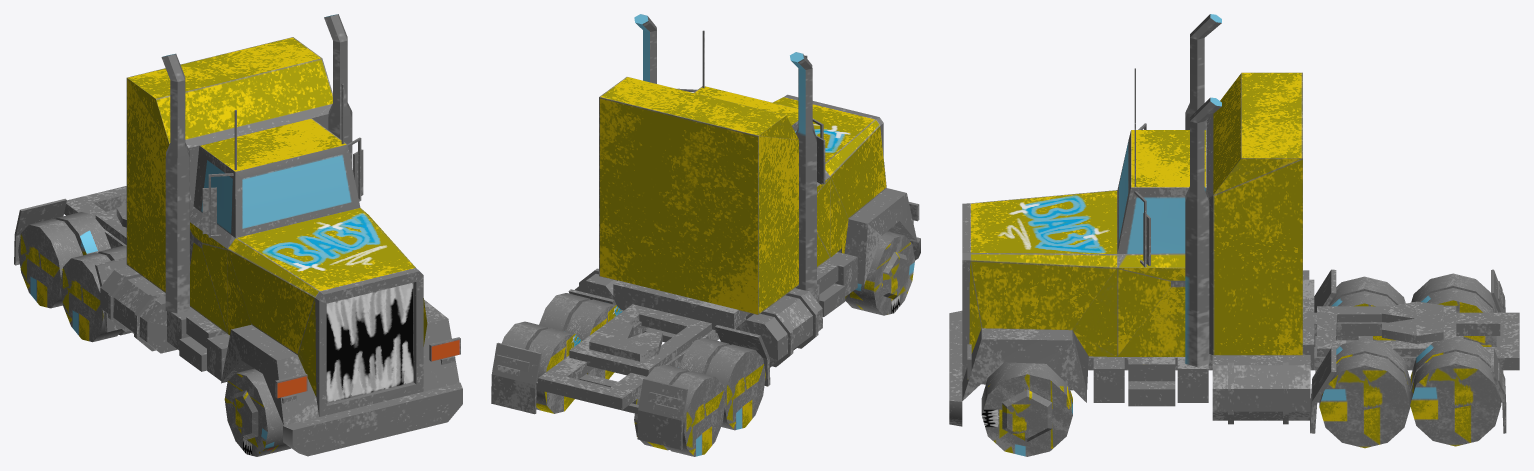
The model's file is truck_v02.fbx.
3 renders of one model, left to right at view 1: azimuth 30°, elevation 25°; view 2: azimuth 150°, elevation 25°; view 3: azimuth 270°, elevation 25°, orthographic. The views are drawn at different scales.
Visible parts, largest first — view 1: polySurface2, pasted__polySurface1, pasted__TireBRY, pasted__TireFR, pasted__TireBRX, polySurface1; view 2: polySurface2, pasted__TireBRX, pasted__polySurface1, pasted__TireBRY, pasted__TireFR, pasted__TireBLY, pasted__TireBLX, polySurface1; view 3: polySurface2, pasted__TireBLY, pasted__TireBLX, pasted__TireFL, polySurface1, pasted__TireBRY, pasted__TireBRX, pasted__polySurface1.
Part boxes in pixels (x1=…): polySurface2: x1=14, y1=37, x2=462, y2=456; pasted__polySurface1: x1=161, y1=53, x2=189, y2=313; pasted__TireBRY: x1=18, y1=212, x2=110, y2=308; pasted__TireFR: x1=224, y1=368, x2=290, y2=456; pasted__TireBRX: x1=60, y1=245, x2=131, y2=342; polySurface1: x1=324, y1=14, x2=352, y2=166; polySurface2: x1=491, y1=30, x2=920, y2=449; pasted__TireBRX: x1=679, y1=338, x2=765, y2=430; pasted__polySurface1: x1=790, y1=52, x2=816, y2=290; pasted__TireBRY: x1=634, y1=364, x2=725, y2=456; pasted__TireFR: x1=845, y1=231, x2=914, y2=315; pasted__TireBLY: x1=501, y1=321, x2=581, y2=413; pasted__TireBLX: x1=539, y1=293, x2=622, y2=379; polySurface1: x1=634, y1=14, x2=656, y2=83; polySurface2: x1=949, y1=68, x2=1519, y2=433; pasted__TireBLY: x1=1410, y1=337, x2=1501, y2=446; pasted__TireBLX: x1=1319, y1=339, x2=1410, y2=448; pasted__TireFL: x1=981, y1=362, x2=1072, y2=456; polySurface1: x1=1185, y1=97, x2=1221, y2=366; pasted__TireBRY: x1=1411, y1=273, x2=1496, y2=346; pasted__TireBRX: x1=1328, y1=276, x2=1405, y2=340; pasted__polySurface1: x1=1185, y1=14, x2=1221, y2=129.
Bounding box in the file's own units: 251 × 363 × 533.
